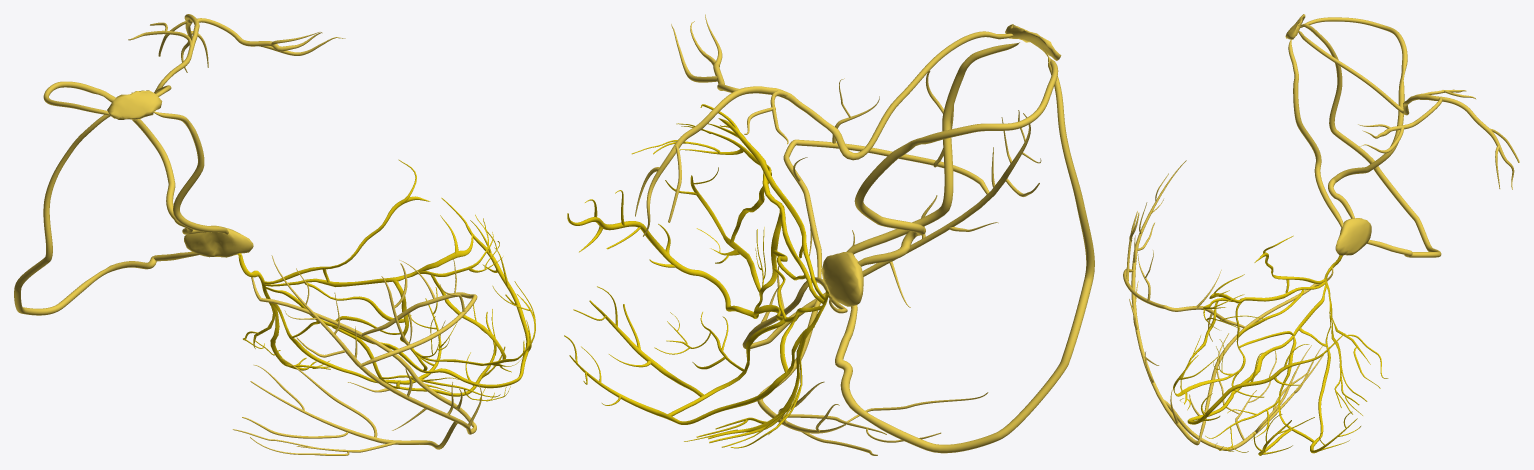
File: sanvan.glb
3 renders of one model, left to right at view 1: azimuth 30°, elevation 25°; view 2: azimuth 150°, elevation 25°; view 3: azimuth 270°, elevation 25°, orthographic. The views are drawn at different scales.
Parts seen in each view (by area): view 1: c1.009; view 2: c1.009; view 3: c1.009.
Boxes of the visible parts, box(x1,y1,x2,y2) form: c1.009: box(14, 14, 535, 455); c1.009: box(564, 14, 1094, 455); c1.009: box(1123, 14, 1519, 455).
Bounding box in the file's own units: 3.43 × 2.96 × 3.24.
